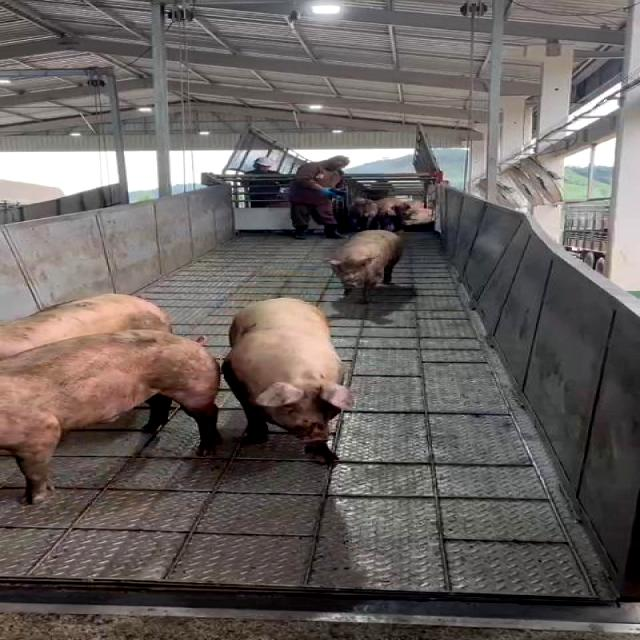pig: (0, 330, 220, 503), (222, 298, 353, 464), (0, 294, 171, 357), (330, 230, 403, 302)
